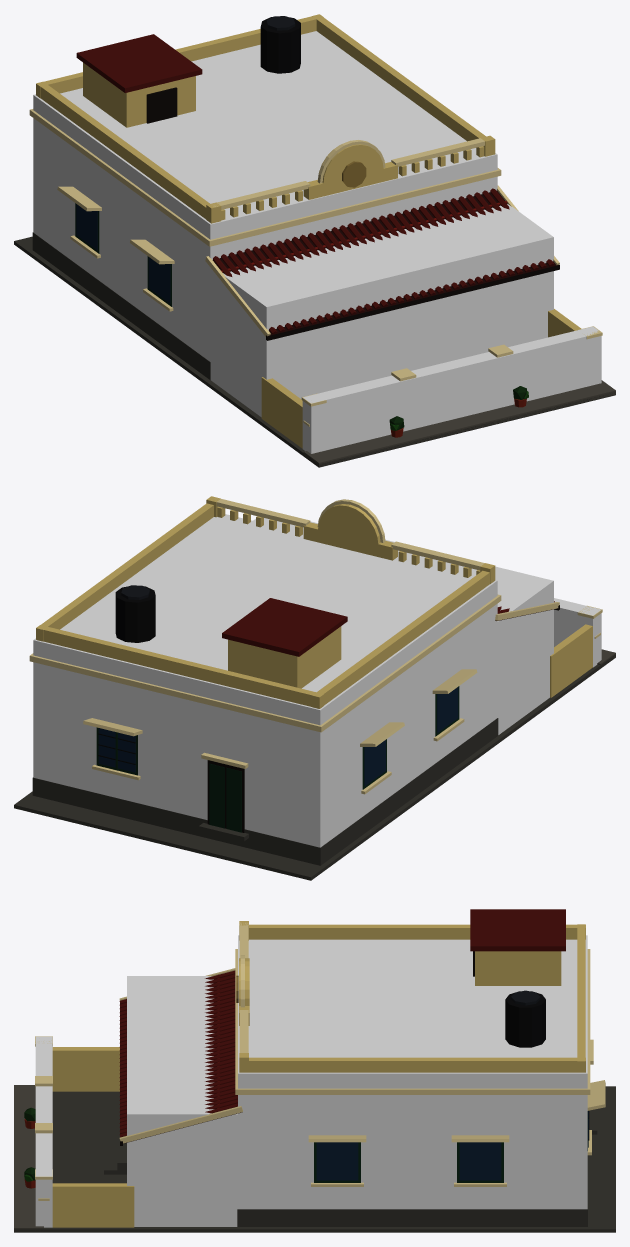
The model's file is CHN_030_thinnai_house.glb.
3 renders of one model, top to bottom at view 1: azimuth 30°, elevation 25°; view 2: azimuth 150°, elevation 25°; view 3: azimuth 270°, elevation 25°, orthographic.
Parts seen in each view (by area): view 1: COL_Main, LOD0, COL_Verandah, COL_Compound; view 2: COL_Main, LOD0, COL_Verandah, COL_Compound; view 3: COL_Main, LOD0, COL_Verandah, COL_Compound.
Part boxes in pixels (x1,y1,x2,y2): COL_Main: (33,31,497,361); LOD0: (14,14,615,467); COL_Verandah: (210,204,553,417); COL_Compound: (302,326,601,453); COL_Main: (33,514,497,847); LOD0: (14,496,615,880); COL_Verandah: (253,518,553,734); COL_Compound: (554,598,601,667); COL_Main: (238,935,587,1209); LOD0: (14,909,615,1232); COL_Verandah: (127,976,238,1226); COL_Compound: (35,1036,52,1227).
Size of what is drawn, in the model's own units: 9.65 by 5.94 by 16.
